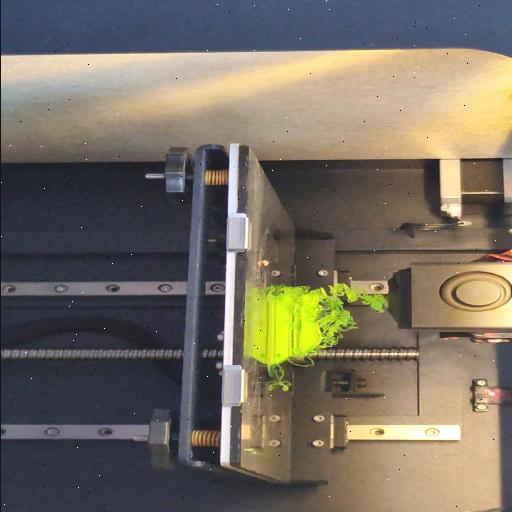spaghetti: (316, 286, 389, 350), (276, 368, 288, 394), (286, 358, 316, 368), (264, 286, 276, 296)
